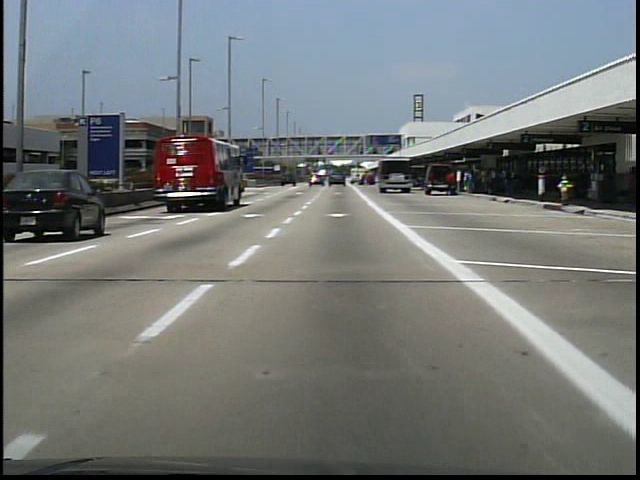person: (444, 168, 459, 201)
